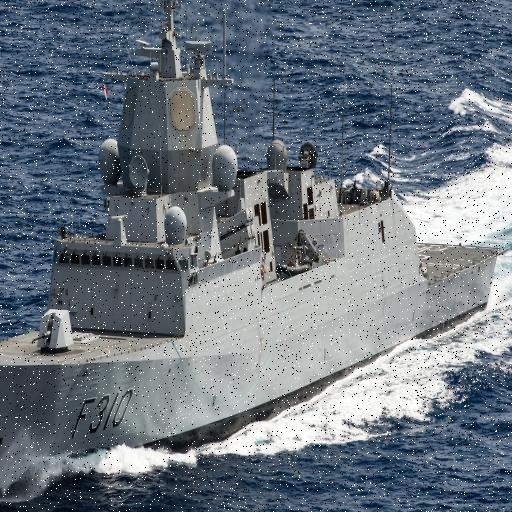Fragata: (1, 1, 504, 507)
